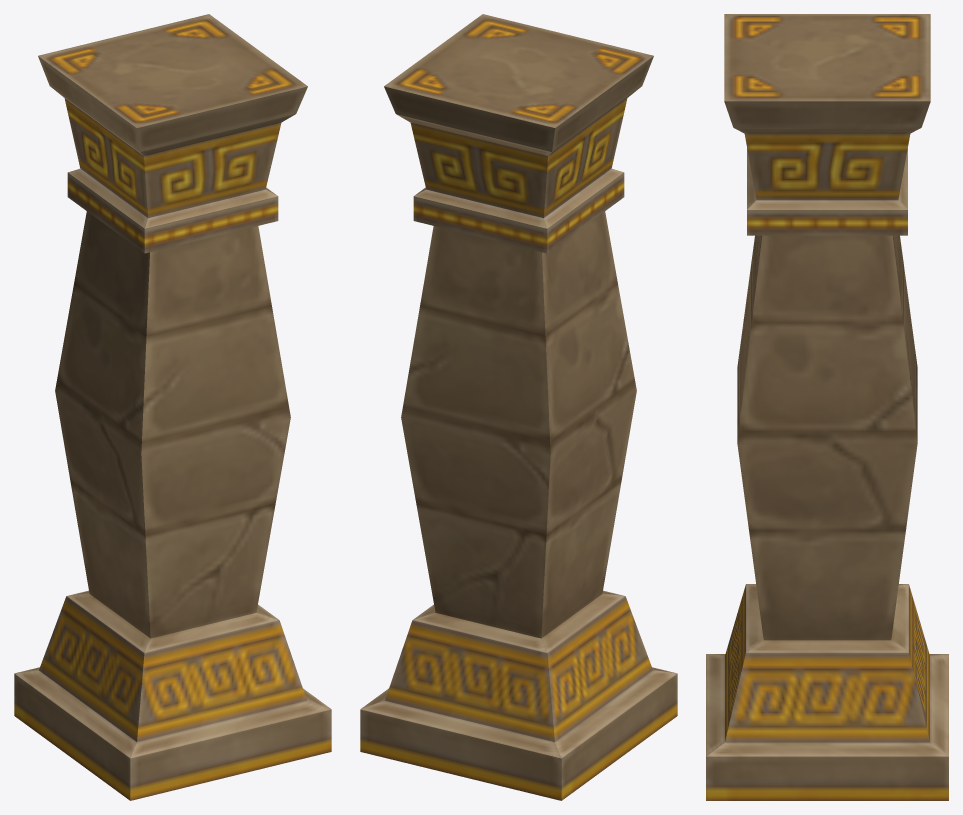
The model's file is desert_dungeon_prop_3.FBX.
The picture shows the model from 3 angles, left to right: view 1: azimuth 30°, elevation 25°; view 2: azimuth 150°, elevation 25°; view 3: azimuth 270°, elevation 25°; orthographic projection. The views are drawn at different scales.
Parts seen in each view (by area): view 1: Object019; view 2: Object019; view 3: Object019.
Boxes of the visible parts, <box> form: Object019: <box>14,14,331,800</box>; Object019: <box>360,14,677,800</box>; Object019: <box>706,14,948,800</box>.
Bounding box in the file's own units: 22.37 × 22.37 × 70.36.
